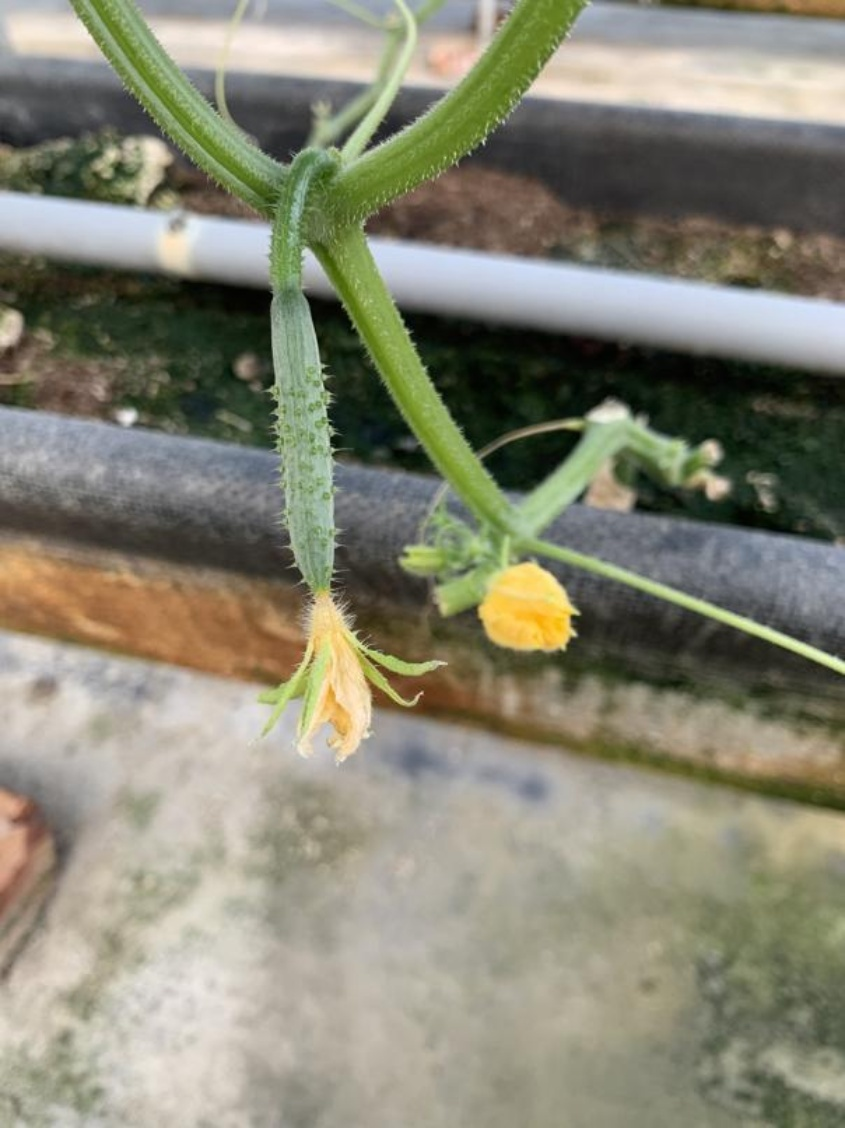bear: (222, 264, 430, 768)
